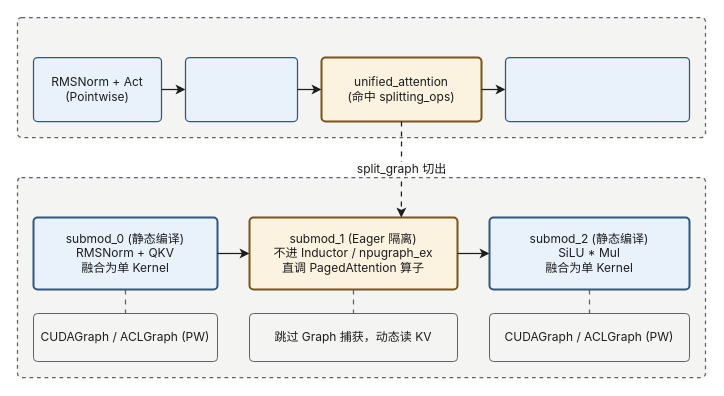
This 724x396 diagram has some shape labels left out. Here are the shapes that lost their labels. From the top down, the box of each, then its label:
(184, 56, 298, 122): QKV Linear (GEMM)
(16, 16, 706, 138): 切分前：单层原始 Torch FX 图（含自定义 Attention 节点）
(504, 56, 690, 122): Gate Linear + SiLU*Up (GEMM + Pointwise)
(16, 176, 706, 378): split_graph 切分后：纯张量融合与旁路隔离
